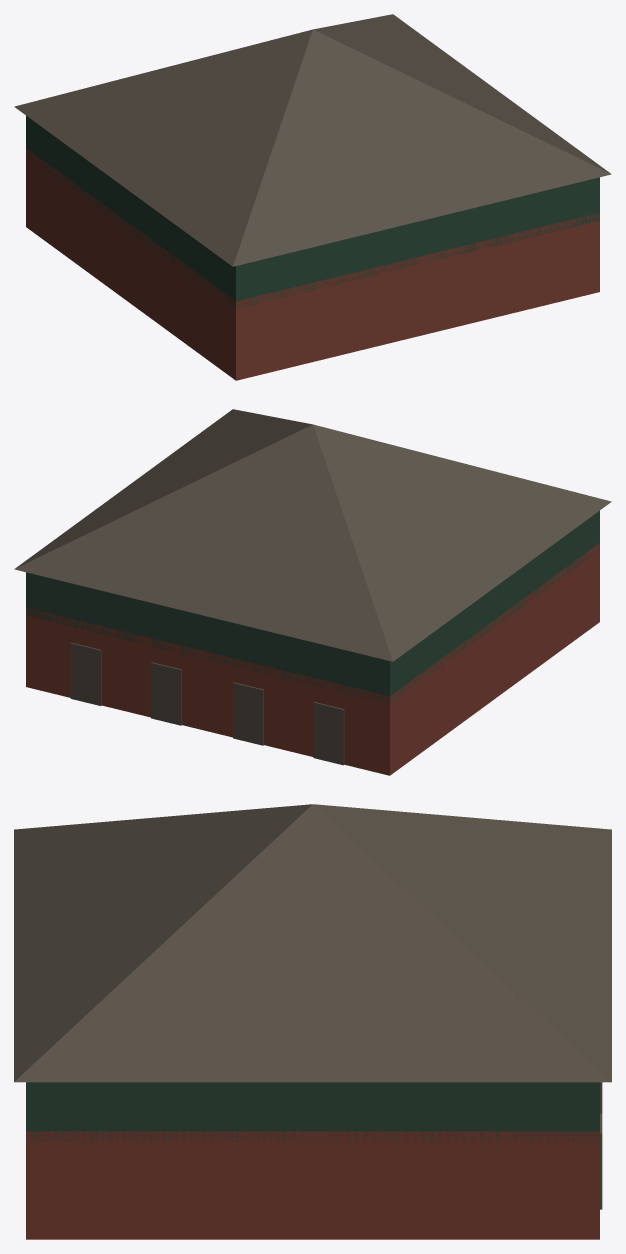
The model's file is d-nl-03-polder-farmhouse.glb.
The picture shows the model from 3 angles, top to bottom: view 1: azimuth 30°, elevation 25°; view 2: azimuth 150°, elevation 25°; view 3: azimuth 270°, elevation 25°; orthographic projection. The views are drawn at different scales.
Visible parts, largest first — view 1: part2, part0, part1; view 2: part2, part0, part1, part3, part6, part5, part4; view 3: part2, part0, part1.
Part boxes in pixels (<box>): part2: <box>14,14,611,266</box>; part0: <box>26,148,599,380</box>; part1: <box>26,115,599,309</box>; part2: <box>14,409,611,661</box>; part0: <box>26,543,599,775</box>; part1: <box>26,510,599,704</box>; part3: <box>313,702,344,765</box>; part6: <box>70,642,101,705</box>; part5: <box>151,662,181,725</box>; part4: <box>233,682,263,745</box>; part2: <box>14,804,611,1082</box>; part0: <box>26,1131,599,1239</box>; part1: <box>26,1082,599,1142</box>.
Bounding box in the file's own units: 25000 × 14499 × 25000.
